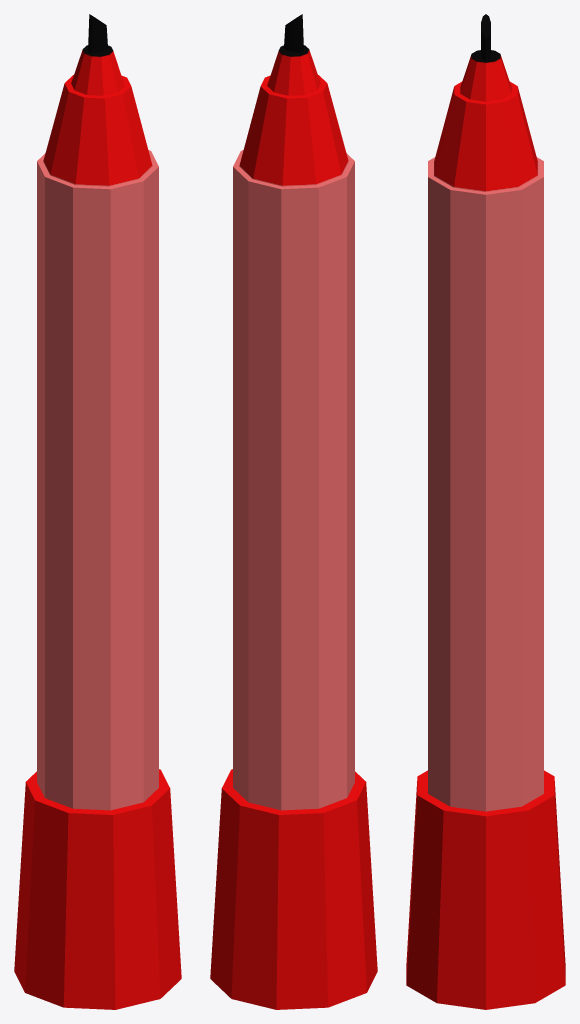
File: markerwand.fbx
3 views of the same model, side by side, from view 1: azimuth 30°, elevation 25°; view 2: azimuth 150°, elevation 25°; view 3: azimuth 270°, elevation 25° (orthographic).
Parts seen in each view (by area): view 1: marker, cap; view 2: marker, cap; view 3: marker, cap.
Boxes of the visible parts, x1=… form: marker: x1=37, y1=14, x2=158, y2=810; cap: x1=14, y1=769, x2=181, y2=1009; marker: x1=233, y1=14, x2=354, y2=810; cap: x1=210, y1=769, x2=377, y2=1009; marker: x1=428, y1=14, x2=543, y2=811; cap: x1=406, y1=770, x2=565, y2=1009.
Bounding box in the file's own units: 0.5481 × 3.48 × 0.5212.
